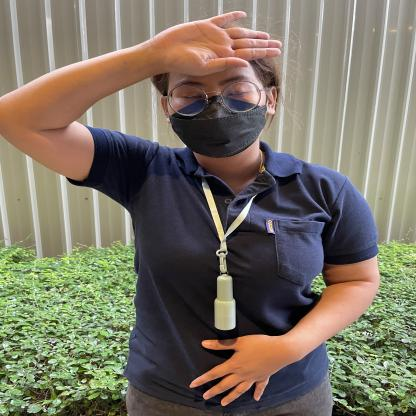Sick: (86, 2, 316, 93)
